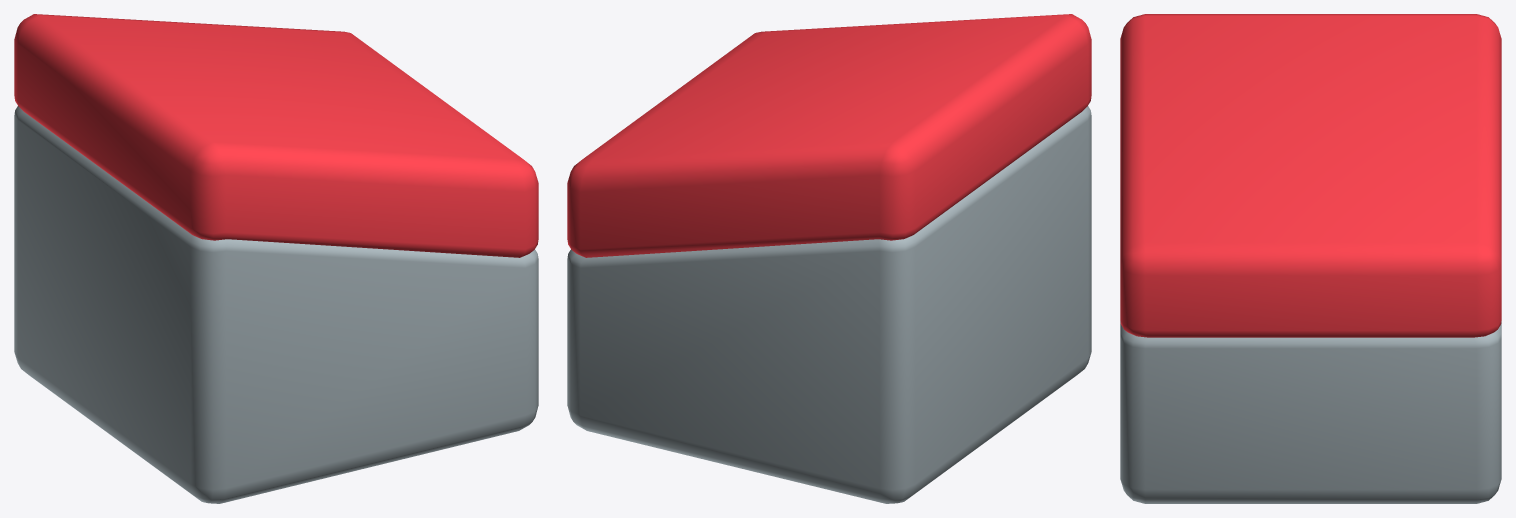
Rendered from tileSlopeMediumHigh_teamRed.glb.
3 renders of one model, left to right at view 1: azimuth 30°, elevation 25°; view 2: azimuth 150°, elevation 25°; view 3: azimuth 270°, elevation 25°, orthographic. The views are drawn at different scales.
Visible parts, largest first — view 1: tileSlopeMediumHigh_teamRed; view 2: tileSlopeMediumHigh_teamRed; view 3: tileSlopeMediumHigh_teamRed.
Part boxes in pixels (left/top/right/bottom): tileSlopeMediumHigh_teamRed: left=14, top=14, right=538, bottom=503; tileSlopeMediumHigh_teamRed: left=567, top=14, right=1091, bottom=503; tileSlopeMediumHigh_teamRed: left=1120, top=14, right=1501, bottom=503.
Size of the model in its own units: 0.592 by 0.592 by 0.592.
